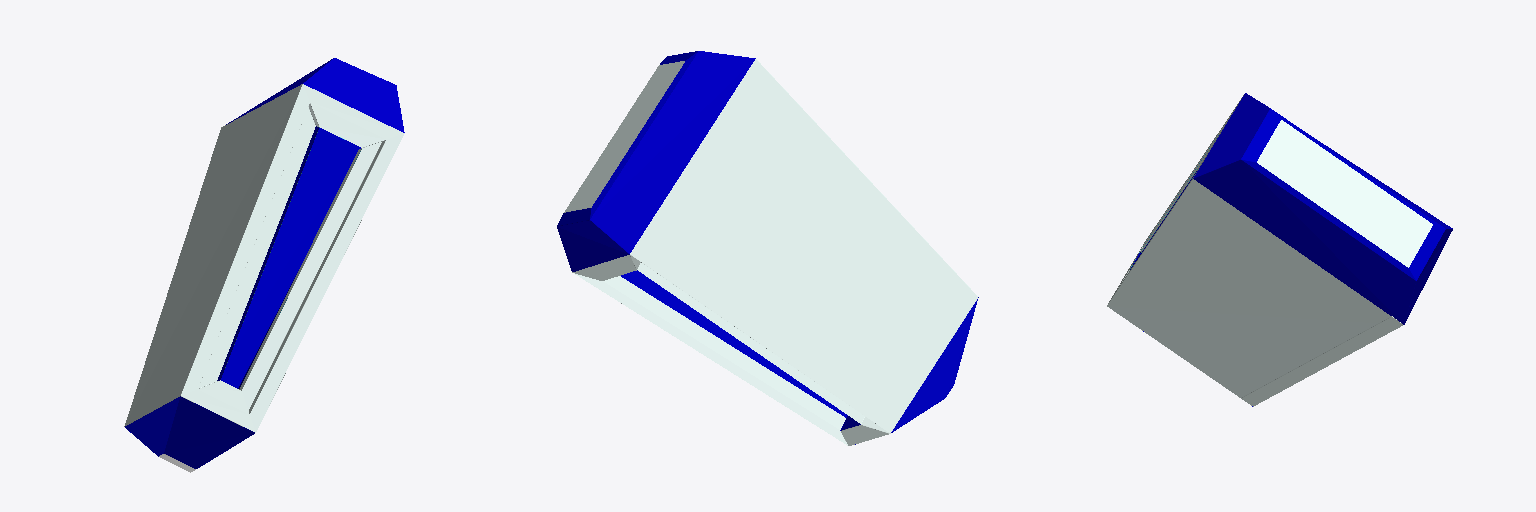
The model's file is blue.obj.
The picture shows the model from 3 angles: view 1: azimuth 30°, elevation 25°; view 2: azimuth 150°, elevation 25°; view 3: azimuth 270°, elevation 25°; orthographic projection.
Visible parts, largest first — view 1: Cube; view 2: Cube; view 3: Cube.
Boxes of the visible parts, box(x1,y1,x2,y2) form: Cube: box(124, 58, 404, 472); Cube: box(557, 51, 978, 445); Cube: box(1107, 93, 1452, 406).
Bounding box in the file's own units: 2.54 × 3.11 × 2.66.